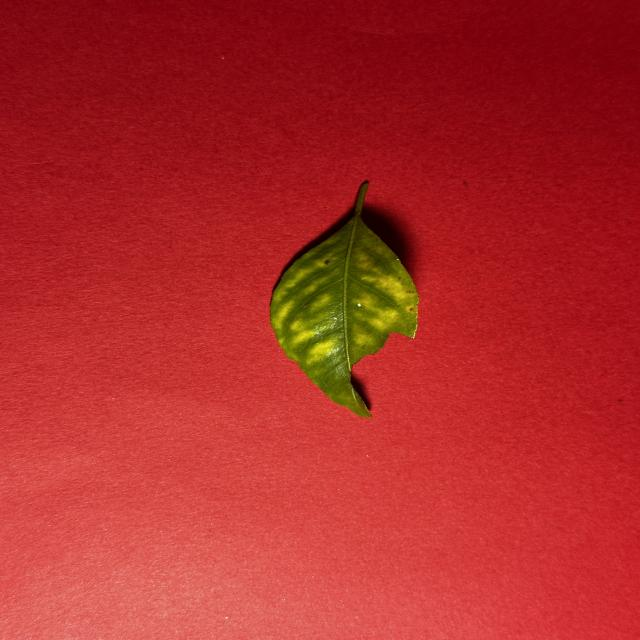greening: (270, 182, 419, 417)
